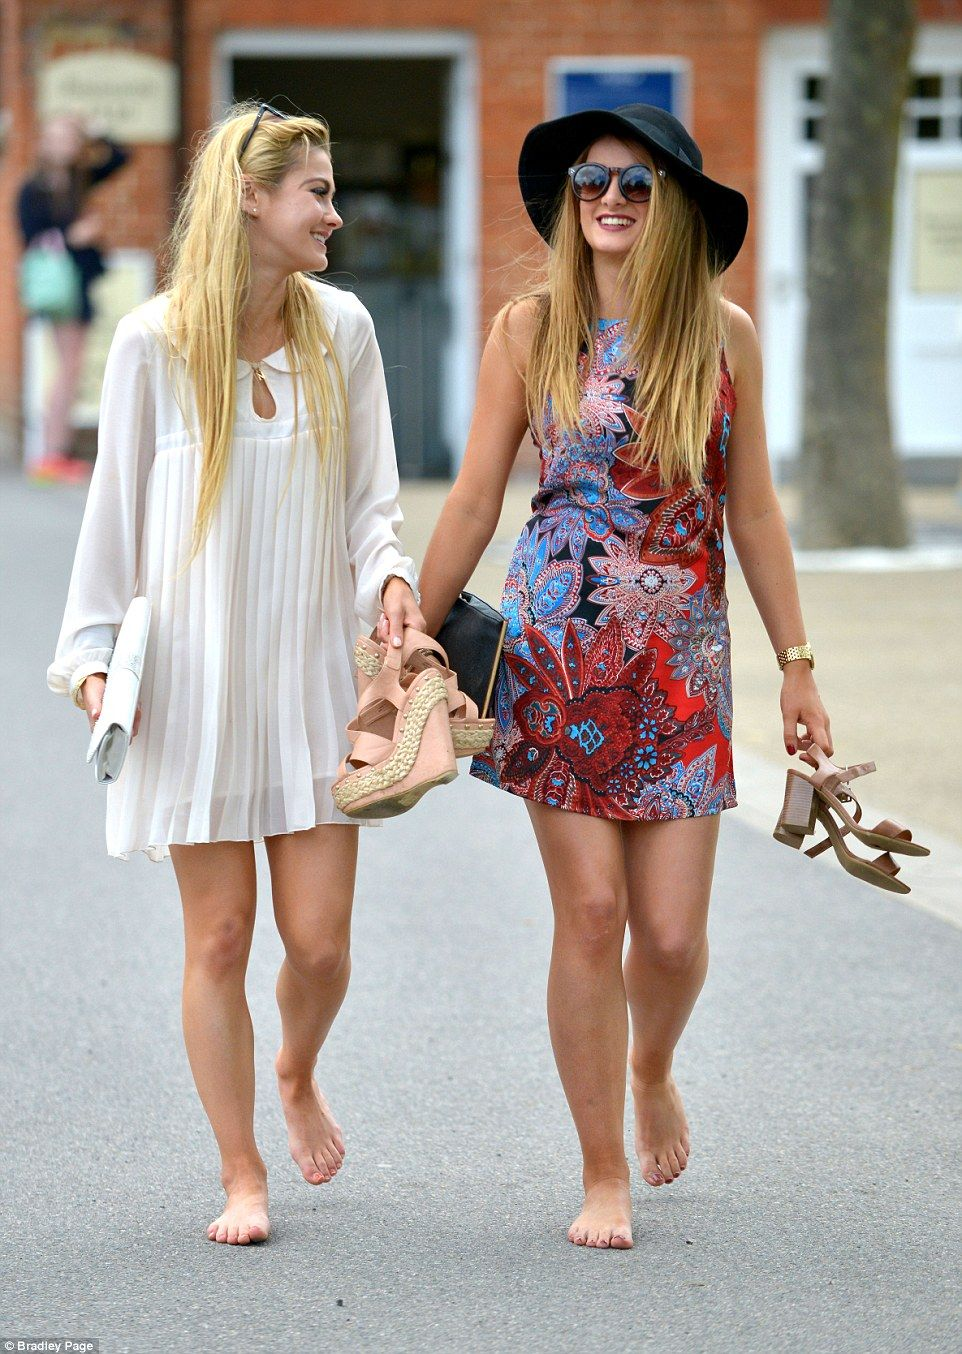Person: (422, 99, 935, 1259), (44, 101, 435, 1247)
